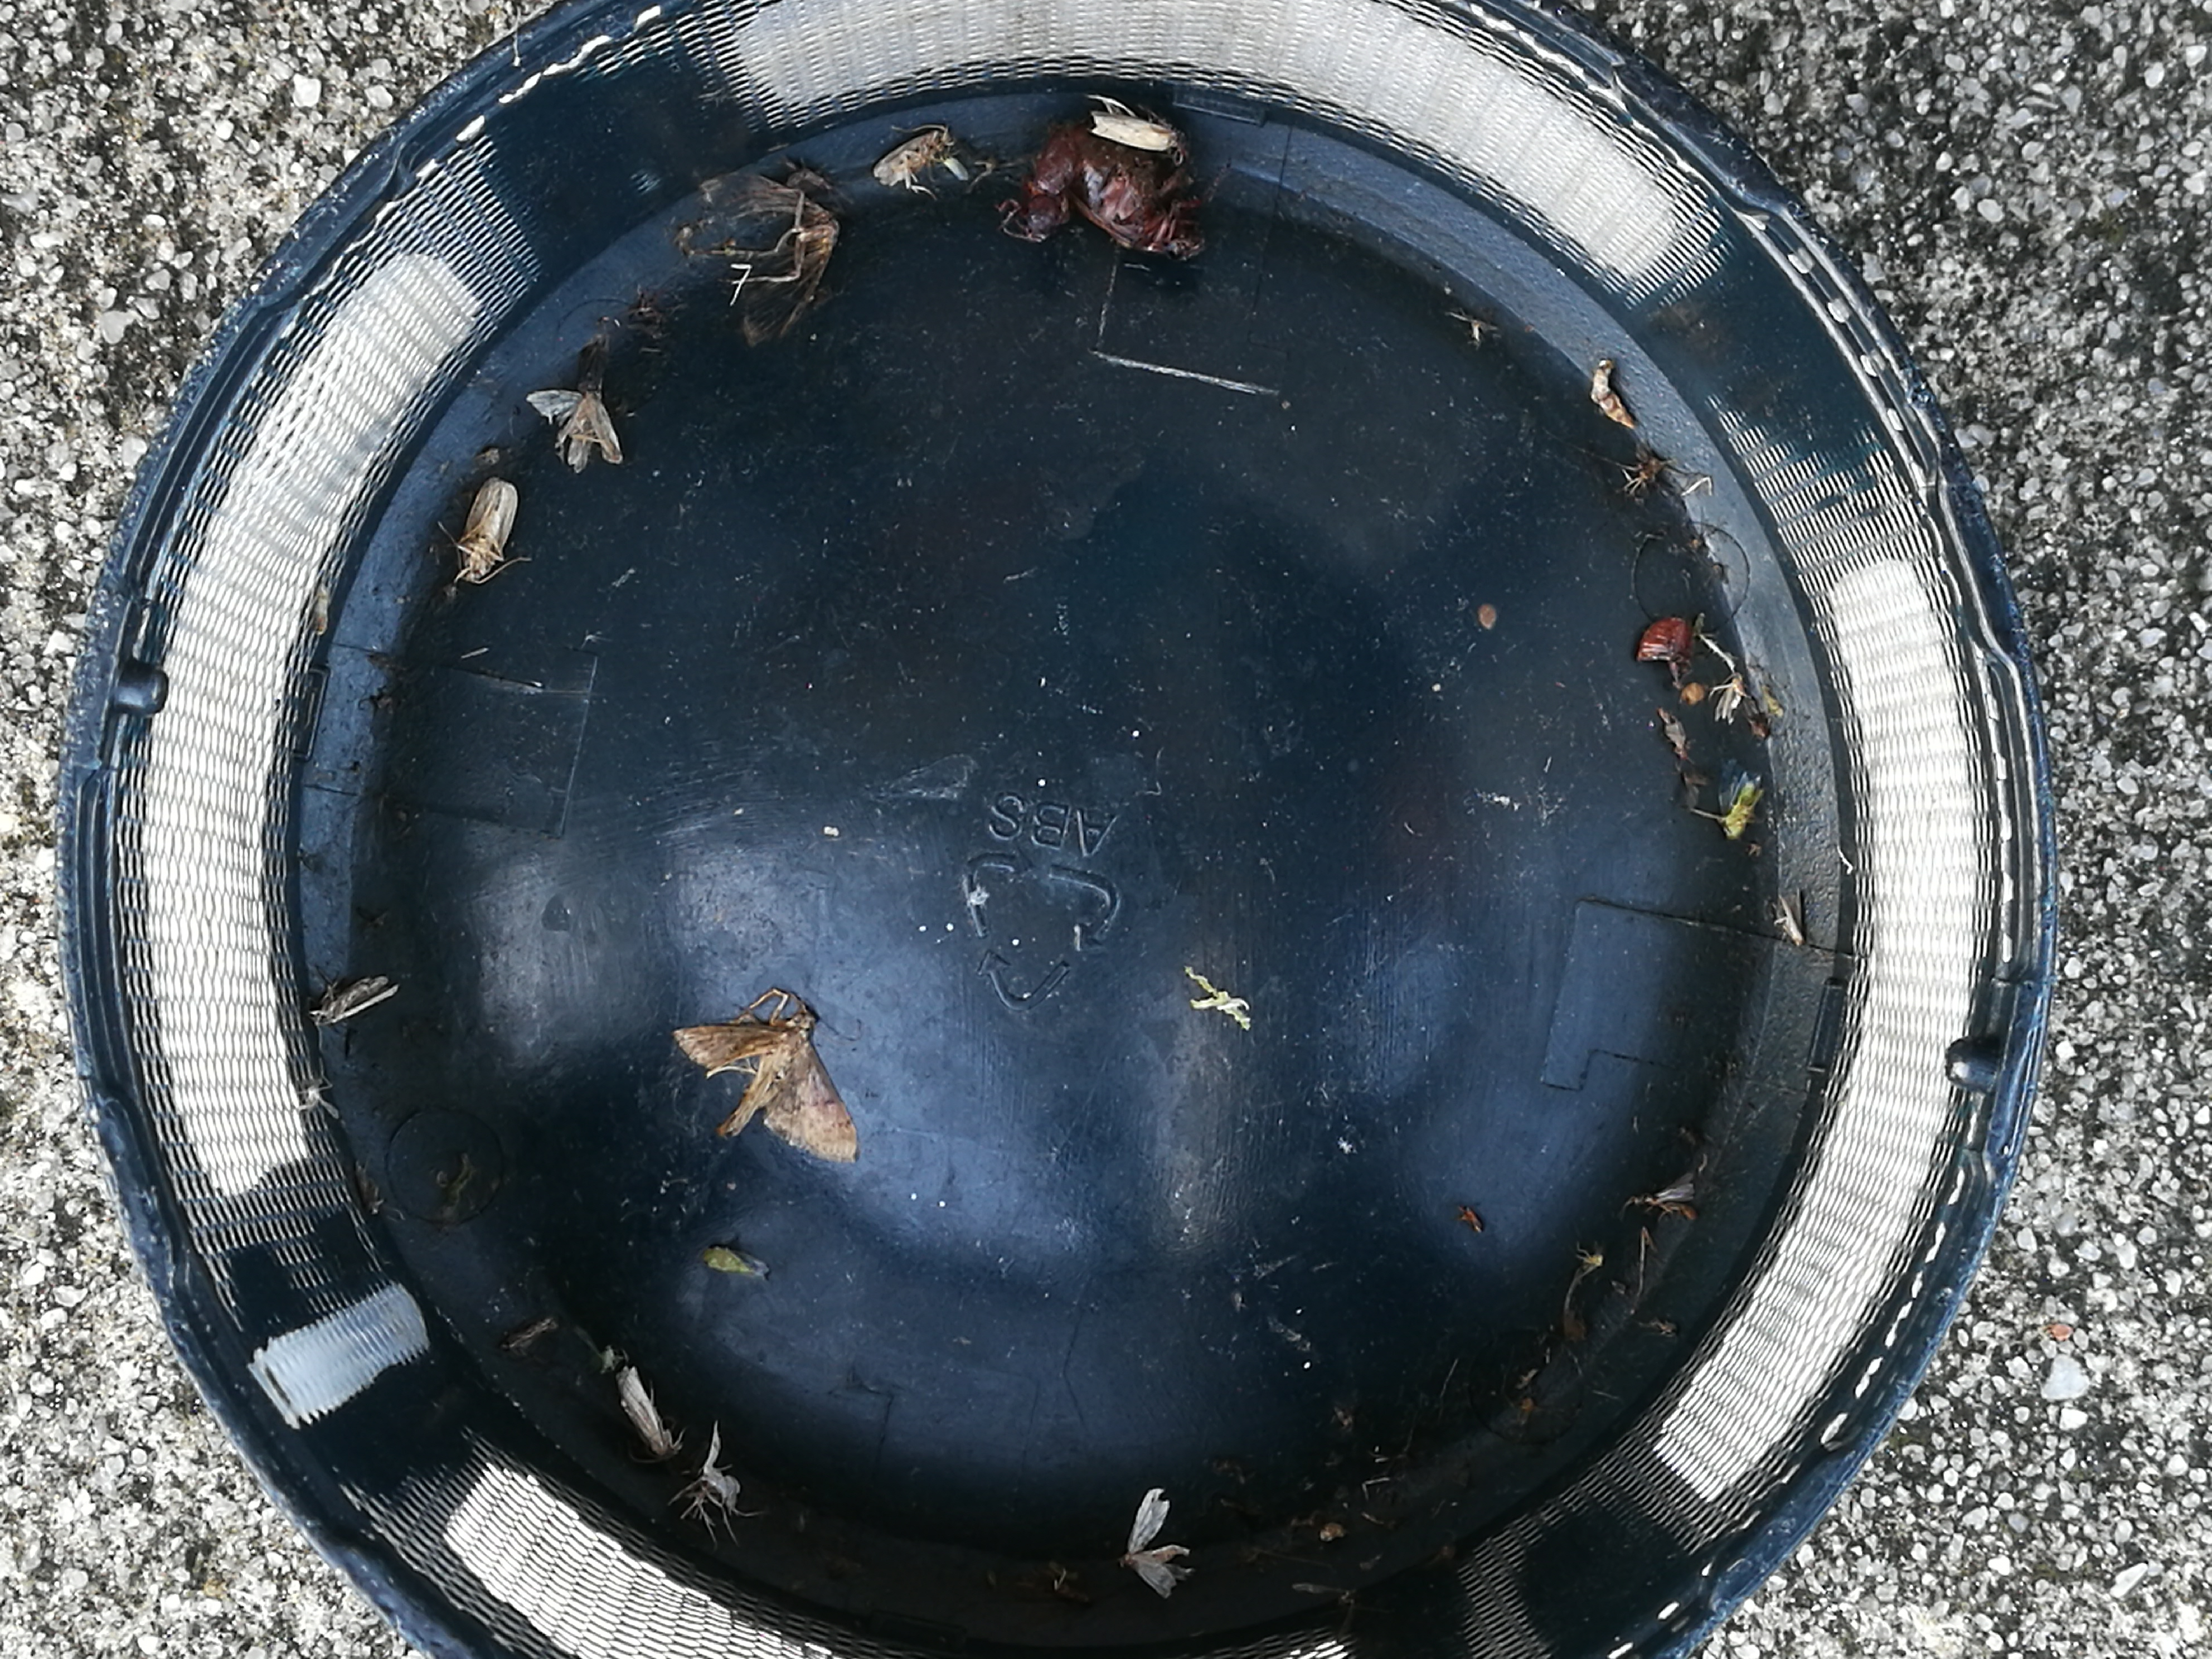beetle: (1050, 120, 1204, 260), (1029, 134, 1076, 242)
mosquito: (617, 1366, 676, 1459), (310, 974, 397, 1023), (871, 131, 949, 185), (1089, 113, 1177, 152)
moth: (674, 1009, 857, 1161), (700, 176, 838, 349), (528, 389, 622, 476), (1123, 1490, 1191, 1600), (462, 476, 516, 580)
